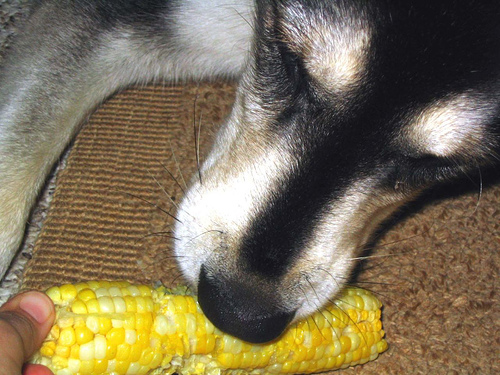corn: (29, 278, 387, 373)
